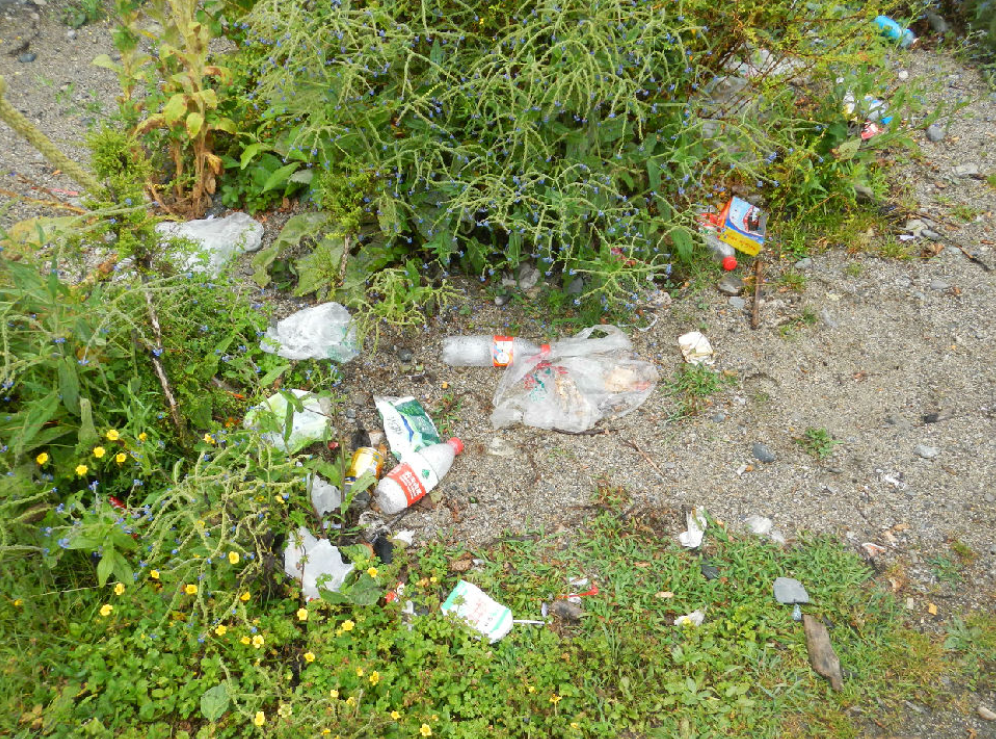garbage: (430, 323, 668, 435), (238, 500, 389, 604), (353, 388, 480, 508), (119, 212, 290, 283), (689, 31, 808, 129), (419, 573, 562, 643), (688, 196, 812, 276), (238, 379, 354, 462), (427, 568, 550, 641), (248, 300, 374, 366), (831, 84, 907, 179), (857, 3, 933, 63), (668, 504, 732, 555), (774, 567, 809, 620), (667, 601, 704, 632)
